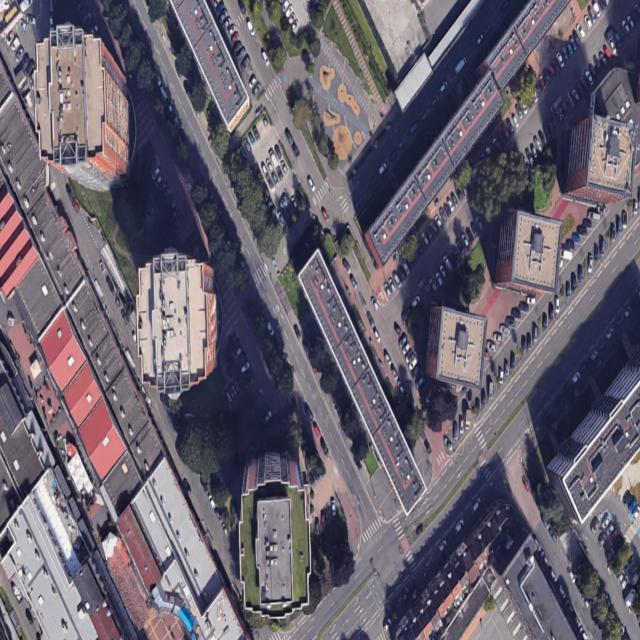immeuble: (346, 0, 578, 269), (290, 246, 435, 518), (529, 347, 640, 527), (34, 23, 129, 192), (134, 247, 220, 401), (239, 451, 310, 619), (170, 0, 259, 132), (561, 112, 640, 210), (492, 209, 564, 297), (425, 305, 488, 389)
